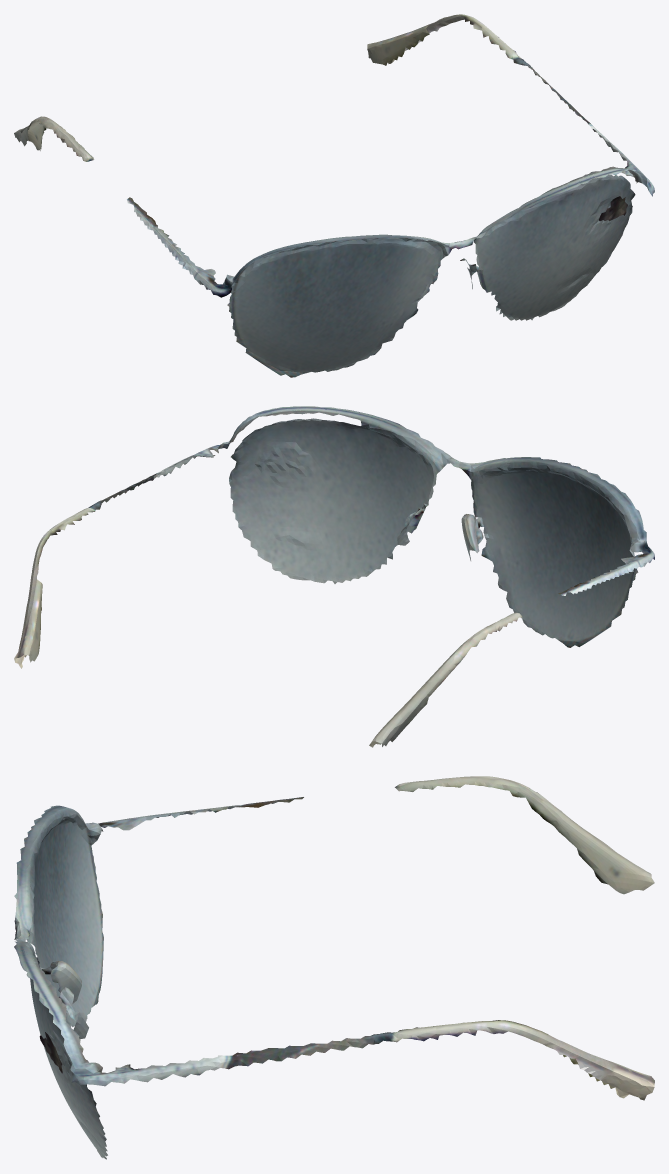
Rendered from scan_align.obj.
The picture shows the model from 3 angles, top to bottom: view 1: azimuth 30°, elevation 25°; view 2: azimuth 150°, elevation 25°; view 3: azimuth 270°, elevation 25°; orthographic projection. The views are drawn at different scales.
Bounding box in the file's own units: 0.1424 × 0.0467 × 0.1487.
1 material, 1 textured.
